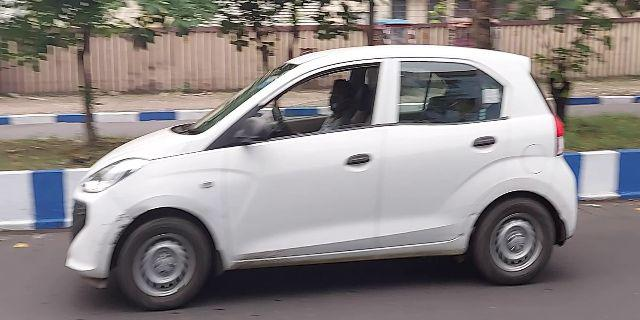Car: (76, 50, 578, 297)
